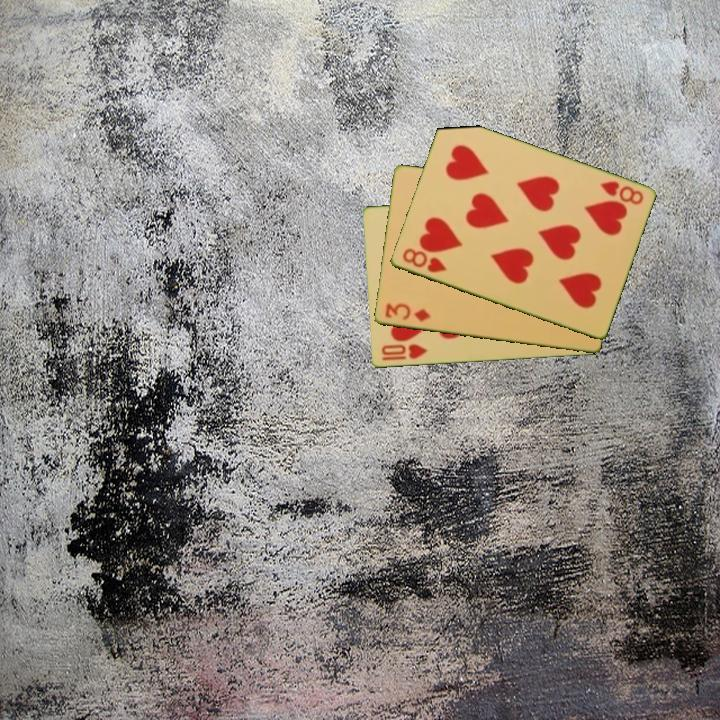10h: (378, 341, 430, 363)
3d: (381, 300, 433, 325)
8h: (399, 244, 449, 276), (596, 178, 646, 208)
